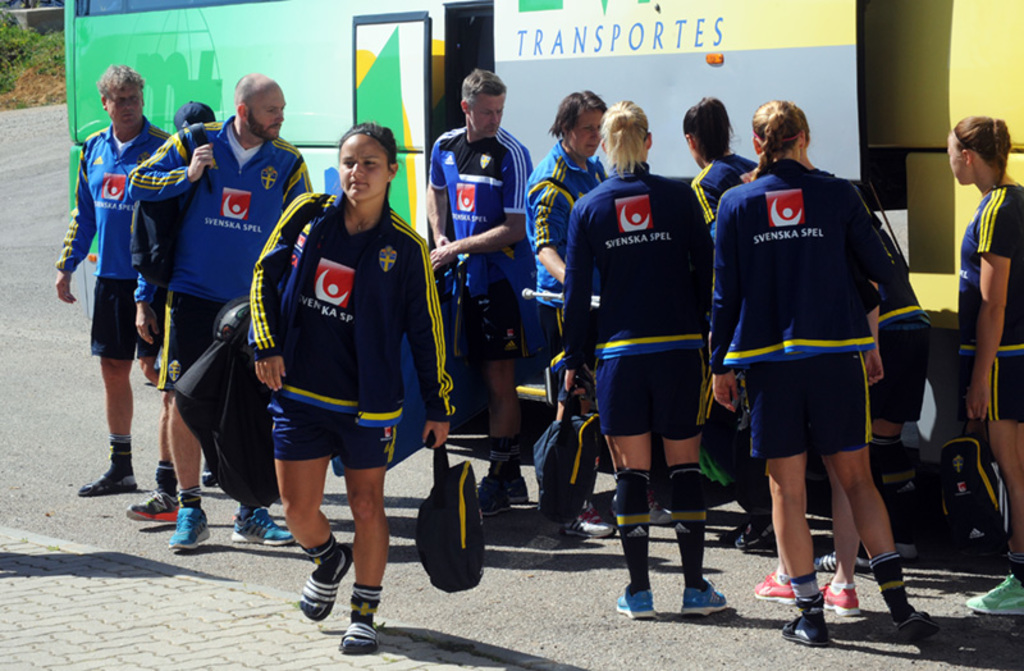Footwear: (287, 556, 357, 631), (229, 505, 303, 544), (970, 570, 1023, 615), (476, 475, 540, 512), (617, 578, 673, 620), (123, 488, 186, 525), (782, 610, 840, 649), (342, 616, 397, 653), (678, 579, 737, 612), (169, 507, 215, 549), (737, 519, 791, 553), (818, 575, 860, 618), (566, 505, 622, 537), (751, 566, 799, 603), (79, 473, 143, 496), (812, 551, 864, 575), (896, 610, 945, 634), (652, 490, 676, 521)
